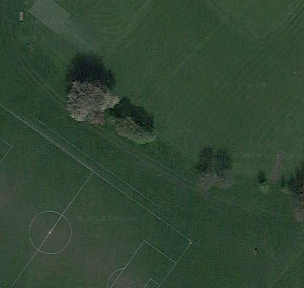tree: (113, 112, 178, 159), (60, 75, 112, 128), (211, 164, 239, 191), (196, 162, 215, 192)
